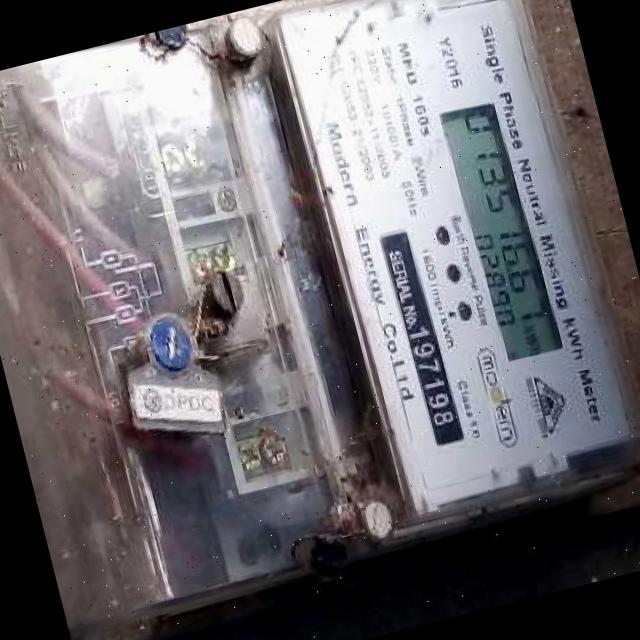LCD: (436, 89, 566, 376)
